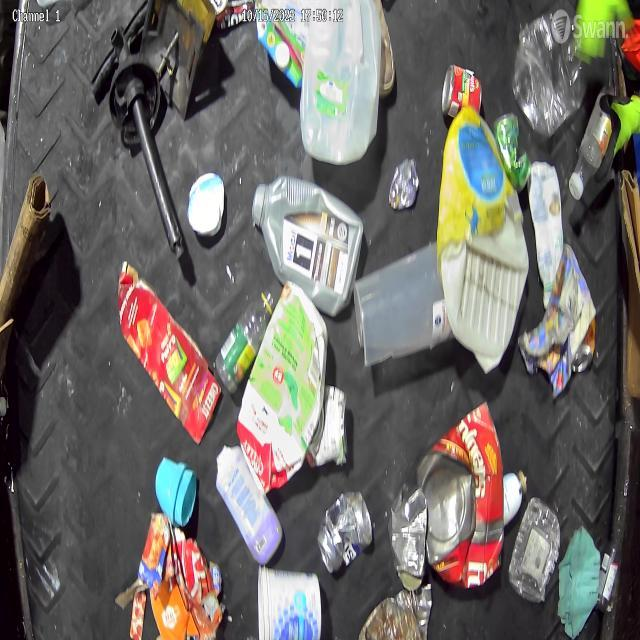can: (318, 489, 373, 574), (389, 486, 426, 584), (438, 63, 482, 121), (388, 160, 421, 210)
milk_jug: (298, 0, 380, 159)
non_white_jug: (439, 118, 528, 372), (416, 400, 506, 589), (252, 172, 356, 318)
